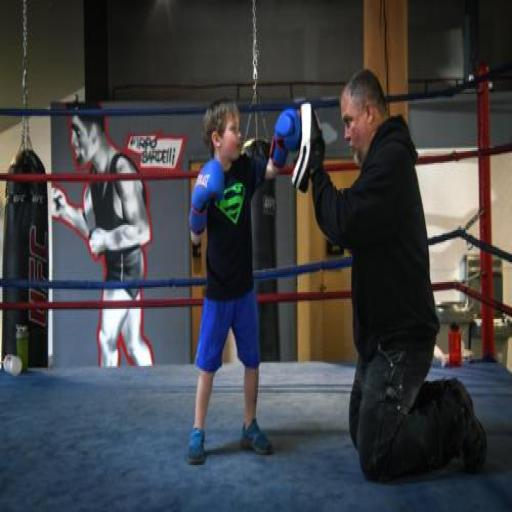boxing: (186, 96, 310, 465)
